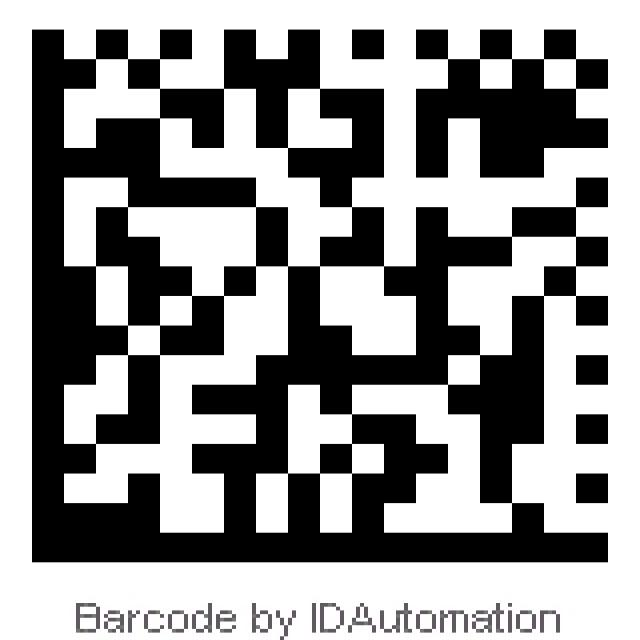DataMatrix: (16, 14, 624, 574)
